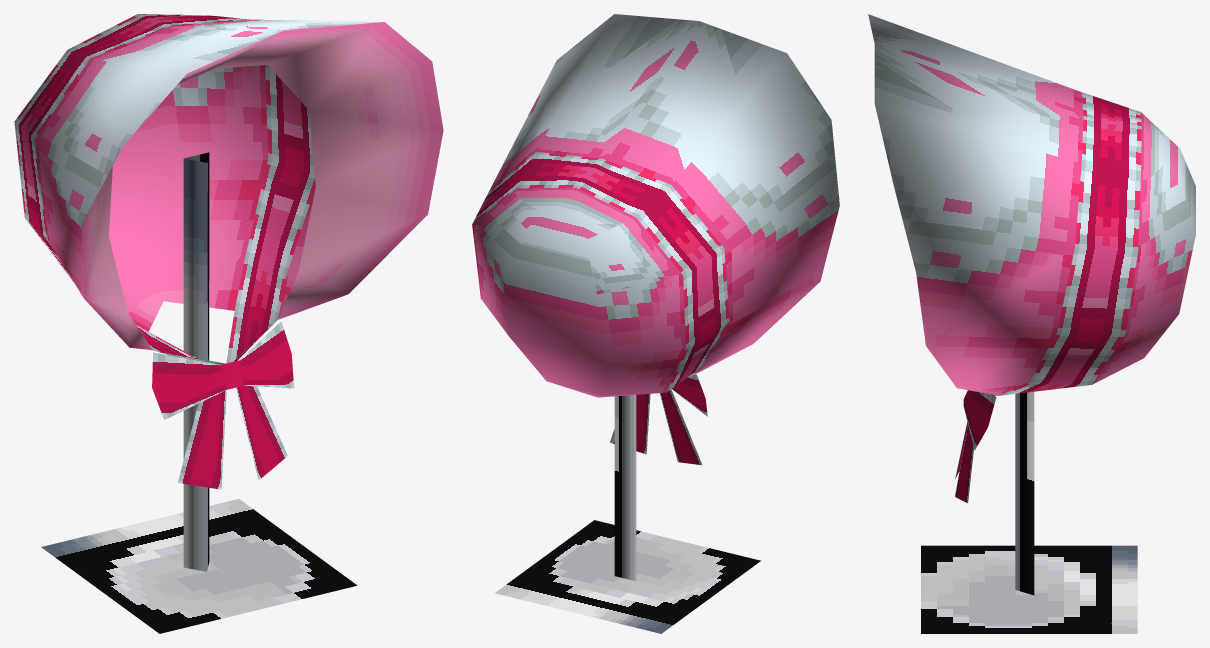
3 renders of one model, left to right at view 1: azimuth 30°, elevation 25°; view 2: azimuth 150°, elevation 25°; view 3: azimuth 270°, elevation 25°, orthographic. The views are drawn at different scales.
Visible parts, largest first — view 1: 2870head068_c; view 2: 2870head068_c; view 3: 2870head068_c.
Part boxes in pixels (x1,y1,x2,y2): 2870head068_c: (14, 14, 443, 633); 2870head068_c: (472, 14, 839, 633); 2870head068_c: (868, 14, 1195, 633).
Bounding box in the file's own units: 0.8562 × 1.34 × 0.7261.
Materials: 2 (2 with a texture image).
